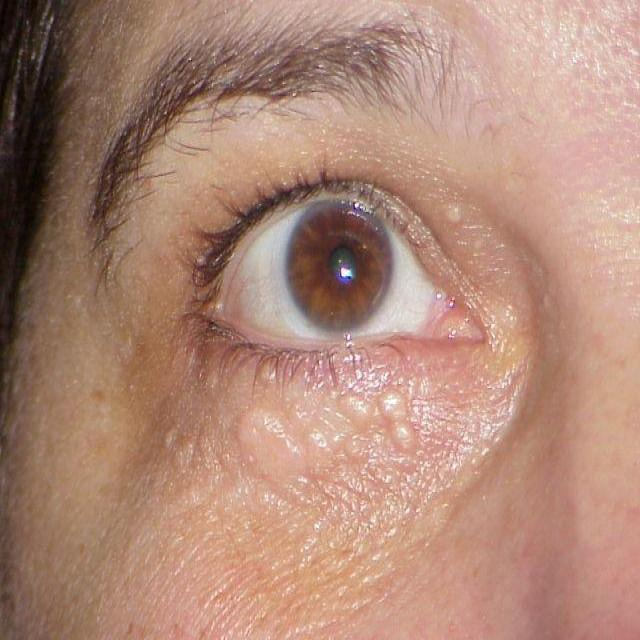milium: (436, 188, 472, 239)
syringoma: (231, 384, 424, 483)
